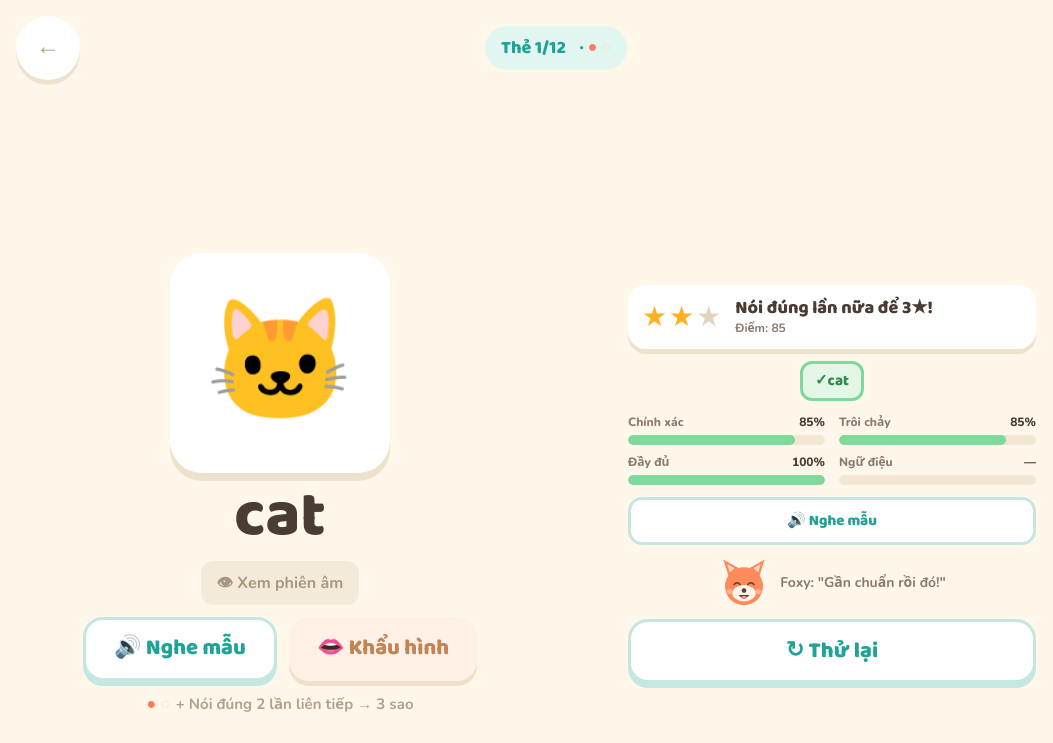
it: Word Pop: hidden IPA + two-in-a-row streak › an 80 then a 50 clears the streak and keeps stored stars capped at 2
Expected: the text named "Lần 1/2" reads "●", [588, 35, 597, 60]
Step 1. Click the button "↻ Thử lại" → coordinates (832, 651), box [628, 619, 1036, 683]
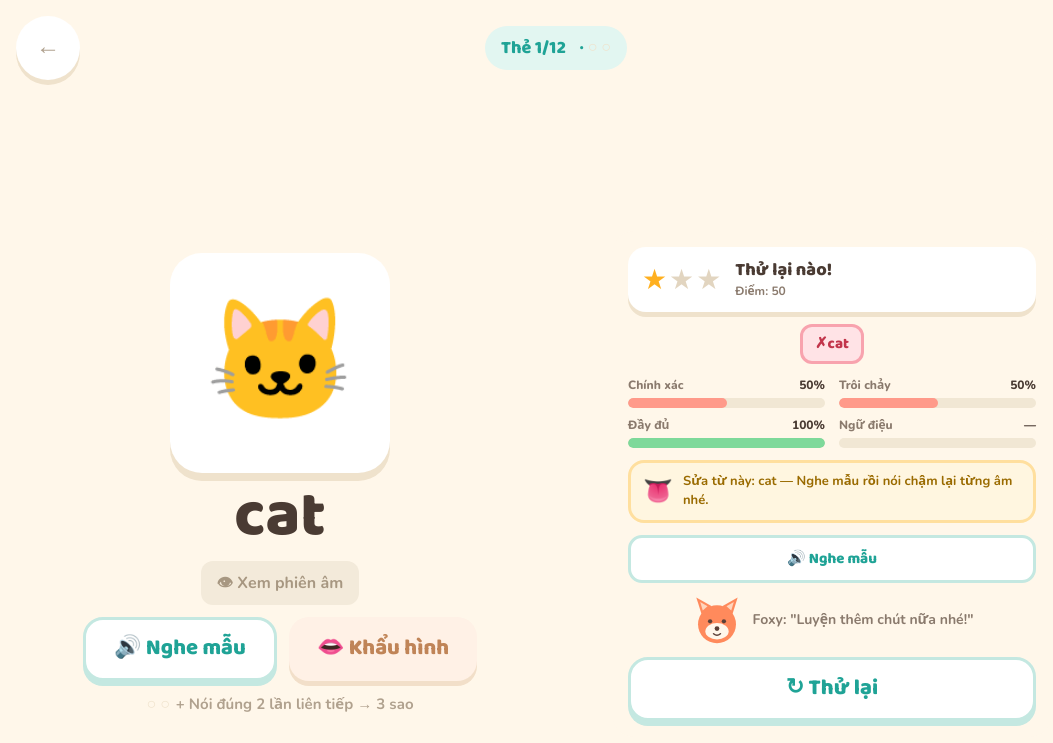
Expected: the text named "Lần 2/2" reads "○", [601, 35, 611, 60]
Now the text named "Lần 1/2" reads "○", box [588, 35, 597, 60]
